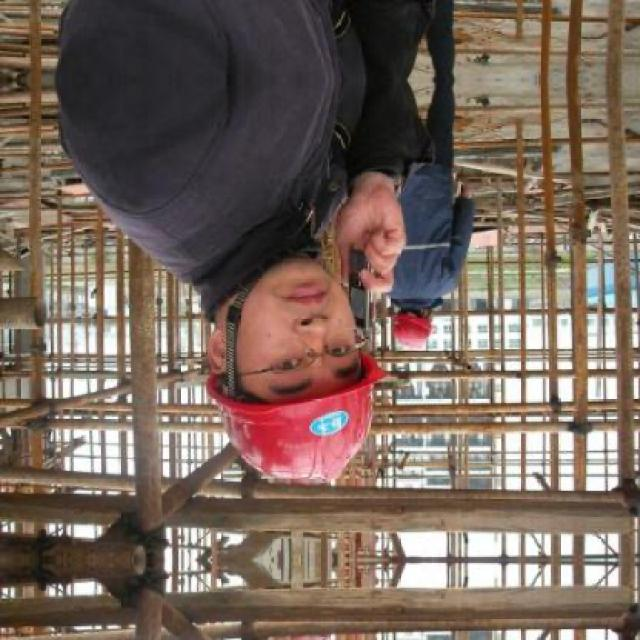con casco: (143, 297, 364, 497), (366, 254, 446, 380)
